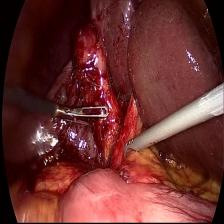Grasper: (50, 97, 112, 138)
Irrigator: (123, 131, 145, 159)
